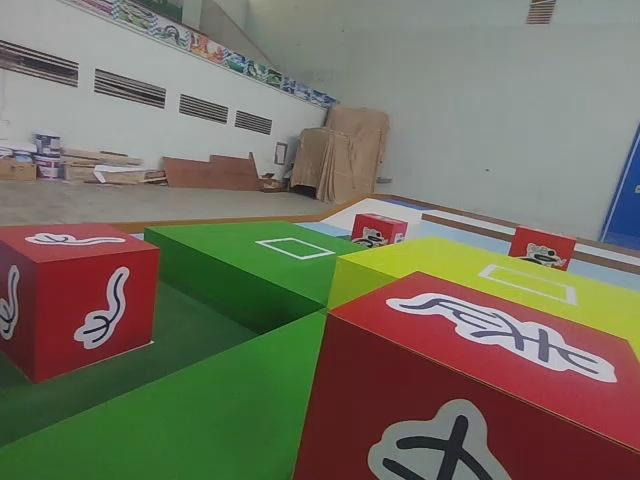R1: (507, 221, 578, 271), (345, 210, 409, 252)
R2 Fake: (293, 264, 640, 480)
R2 Real: (1, 221, 163, 386)
